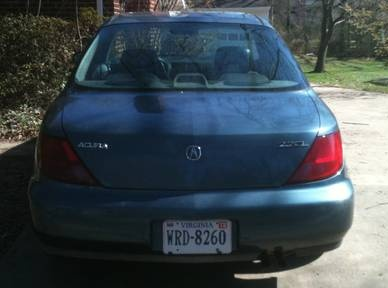acura: (28, 6, 362, 288)
